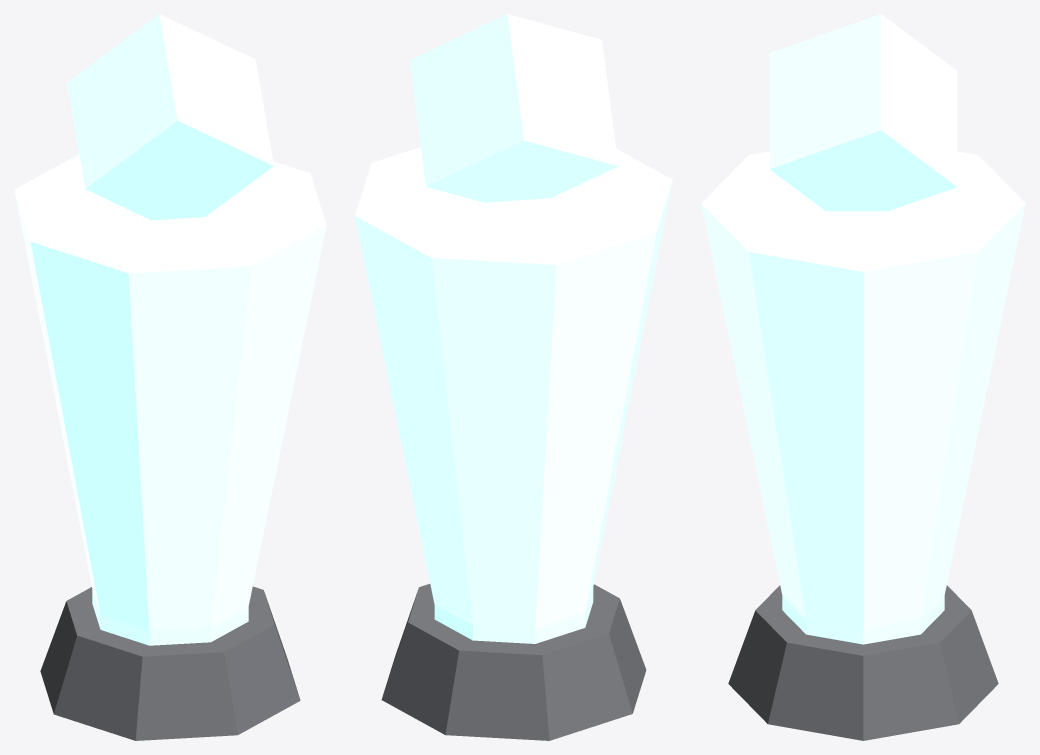
File: SM_Holo_Projector.fbx
The picture shows the model from 3 angles, left to right: view 1: azimuth 30°, elevation 25°; view 2: azimuth 150°, elevation 25°; view 3: azimuth 270°, elevation 25°; orthographic projection.
Visible parts, largest first — view 1: SM_Holo_Projector; view 2: SM_Holo_Projector; view 3: SM_Holo_Projector.
Boxes of the visible parts, x1,y1,x2,y2 form: SM_Holo_Projector: (14, 14, 326, 740); SM_Holo_Projector: (355, 14, 672, 740); SM_Holo_Projector: (701, 14, 1025, 740).
Size of the model in its own units: 0.6 by 1.36 by 0.6.
